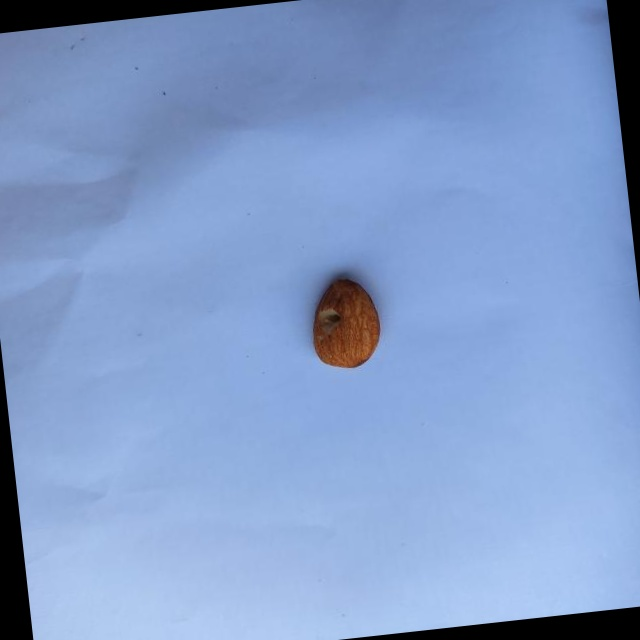grade3: (301, 270, 387, 376)
